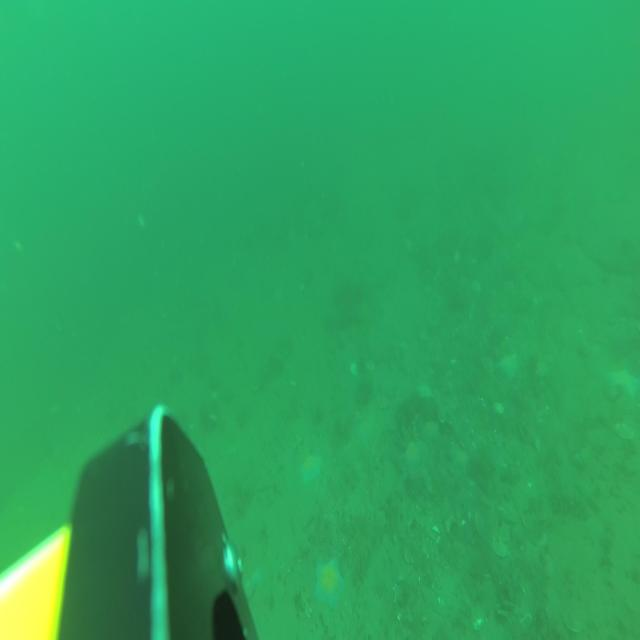holothurian: (547, 489, 590, 524)
scallop: (562, 602, 586, 635), (612, 418, 636, 442), (492, 540, 508, 559)
starfish: (313, 554, 347, 605), (608, 364, 640, 407), (297, 449, 326, 489), (495, 349, 522, 384), (403, 435, 423, 472)
